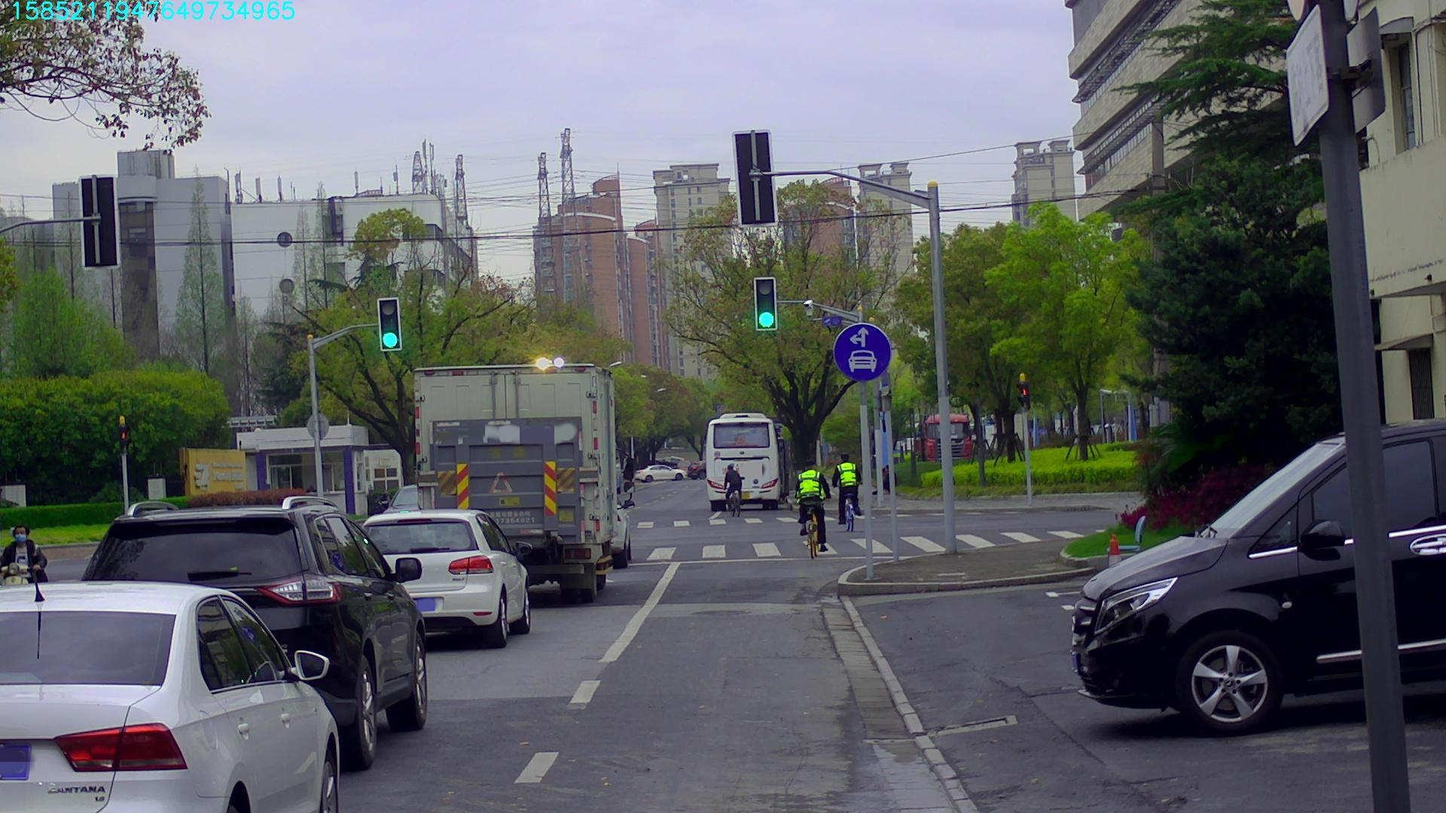green: (377, 298, 401, 349), (754, 277, 776, 329)
